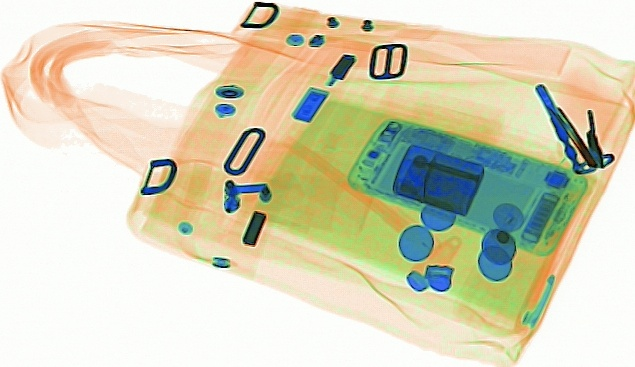lighter: (391, 143, 484, 216)
